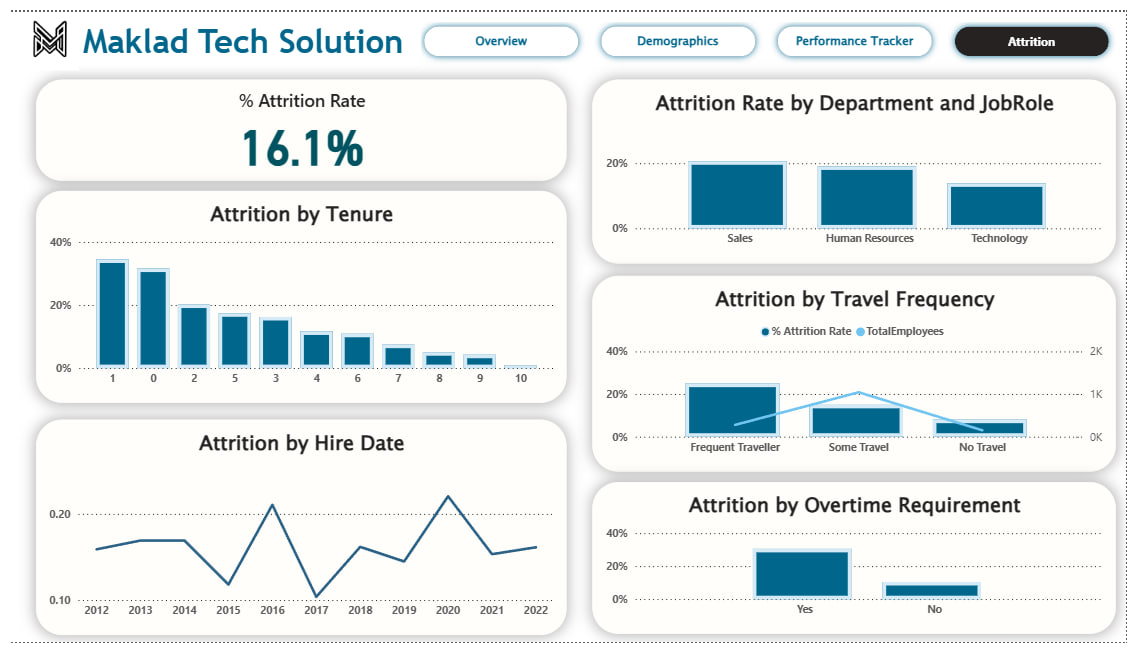

The page's visual inventory and layout, read from the dashboard file:
{"tool":"powerbi","page":{"name":"Attrition","canvas":[1280,720],"ordinal":3},"visuals":[{"type":"card","title":"% Attrition Rate","fields":{"Values":["_Measures.% Attrition Rate"]},"box":[33.8,77.5,606.2,116.2],"z":0},{"type":"clusteredColumnChart","title":"Attrition Rate by Department and JobRole","fields":{"Category":["DimEmployee.Department","DimEmployee.JobRole"],"Y":["_Measures.% Attrition Rate"]},"box":[670,77.5,598.8,210],"z":1000},{"type":"lineChart","title":"Attrition by Hire Date","fields":{"Category":["DimDate.Date.Variation.Date Hierarchy.Year","DimDate.Date.Variation.Date Hierarchy.Quarter","DimDate.Date.Variation.Date Hierarchy.Month","DimDate.Date.Variation.Date Hierarchy.Day"],"Y":["_Measures.% Attrition Rate Date"]},"box":[33.8,466.2,606.2,246.2],"z":2000},{"type":"lineStackedColumnComboChart","title":"Attrition by Travel Frequency","fields":{"Y":["_Measures.% Attrition Rate"],"Category":["DimEmployee.BusinessTravel"],"Y2":["_Measures.TotalEmployees"]},"box":[670,301.2,598.8,223.8],"z":3000},{"type":"clusteredColumnChart","title":"Attrition by Overtime Requirement","fields":{"Category":["DimEmployee.OverTime"],"Y":["_Measures.% Attrition Rate"]},"box":[670,537.5,598.8,173.8],"z":4000},{"type":"clusteredColumnChart","title":"Attrition by Tenure","fields":{"Y":["_Measures.% Attrition Rate"],"Category":["DimEmployee.YearsAtCompany"]},"box":[33.8,203.8,606.2,242.5],"z":5000},{"type":"pageNavigator","box":[470,8.8,800,50],"z":8000},{"type":"image","box":[0,0,100,66.5],"z":8001},{"type":"textbox","box":[83,6.5,391.5,55],"z":9000}]}

Visuals, with their boxes in screenshot pixels (x1, y1, x2, y2), scaled from the page's 1280x720 canvas onto the 1137x653 screenshot:
"% Attrition Rate" card: (left=30, top=70, right=568, bottom=176)
"Attrition Rate by Department and JobRole" clusteredColumnChart: (left=595, top=70, right=1127, bottom=261)
"Attrition by Hire Date" lineChart: (left=30, top=423, right=568, bottom=646)
"Attrition by Travel Frequency" lineStackedColumnComboChart: (left=595, top=273, right=1127, bottom=476)
"Attrition by Overtime Requirement" clusteredColumnChart: (left=595, top=487, right=1127, bottom=645)
"Attrition by Tenure" clusteredColumnChart: (left=30, top=185, right=568, bottom=405)
pageNavigator: (left=417, top=8, right=1128, bottom=53)
image: (left=0, top=0, right=89, bottom=60)
textbox: (left=74, top=6, right=421, bottom=56)
